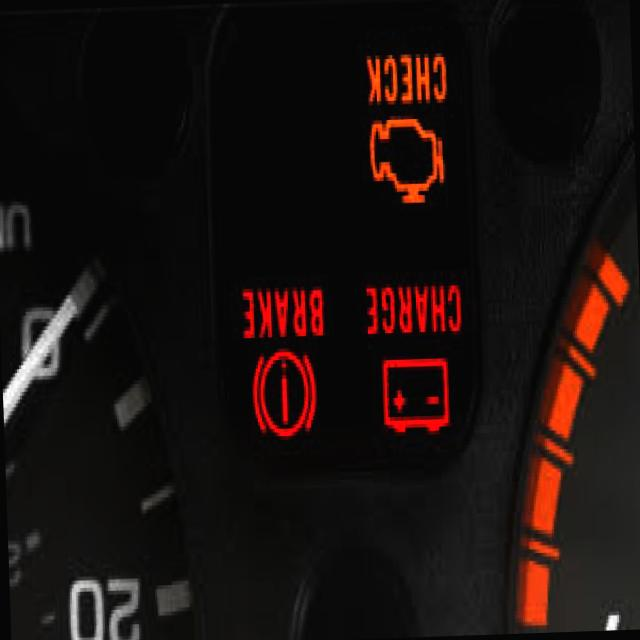kontrolka: (357, 262, 472, 444), (351, 39, 462, 218), (233, 278, 332, 443)
